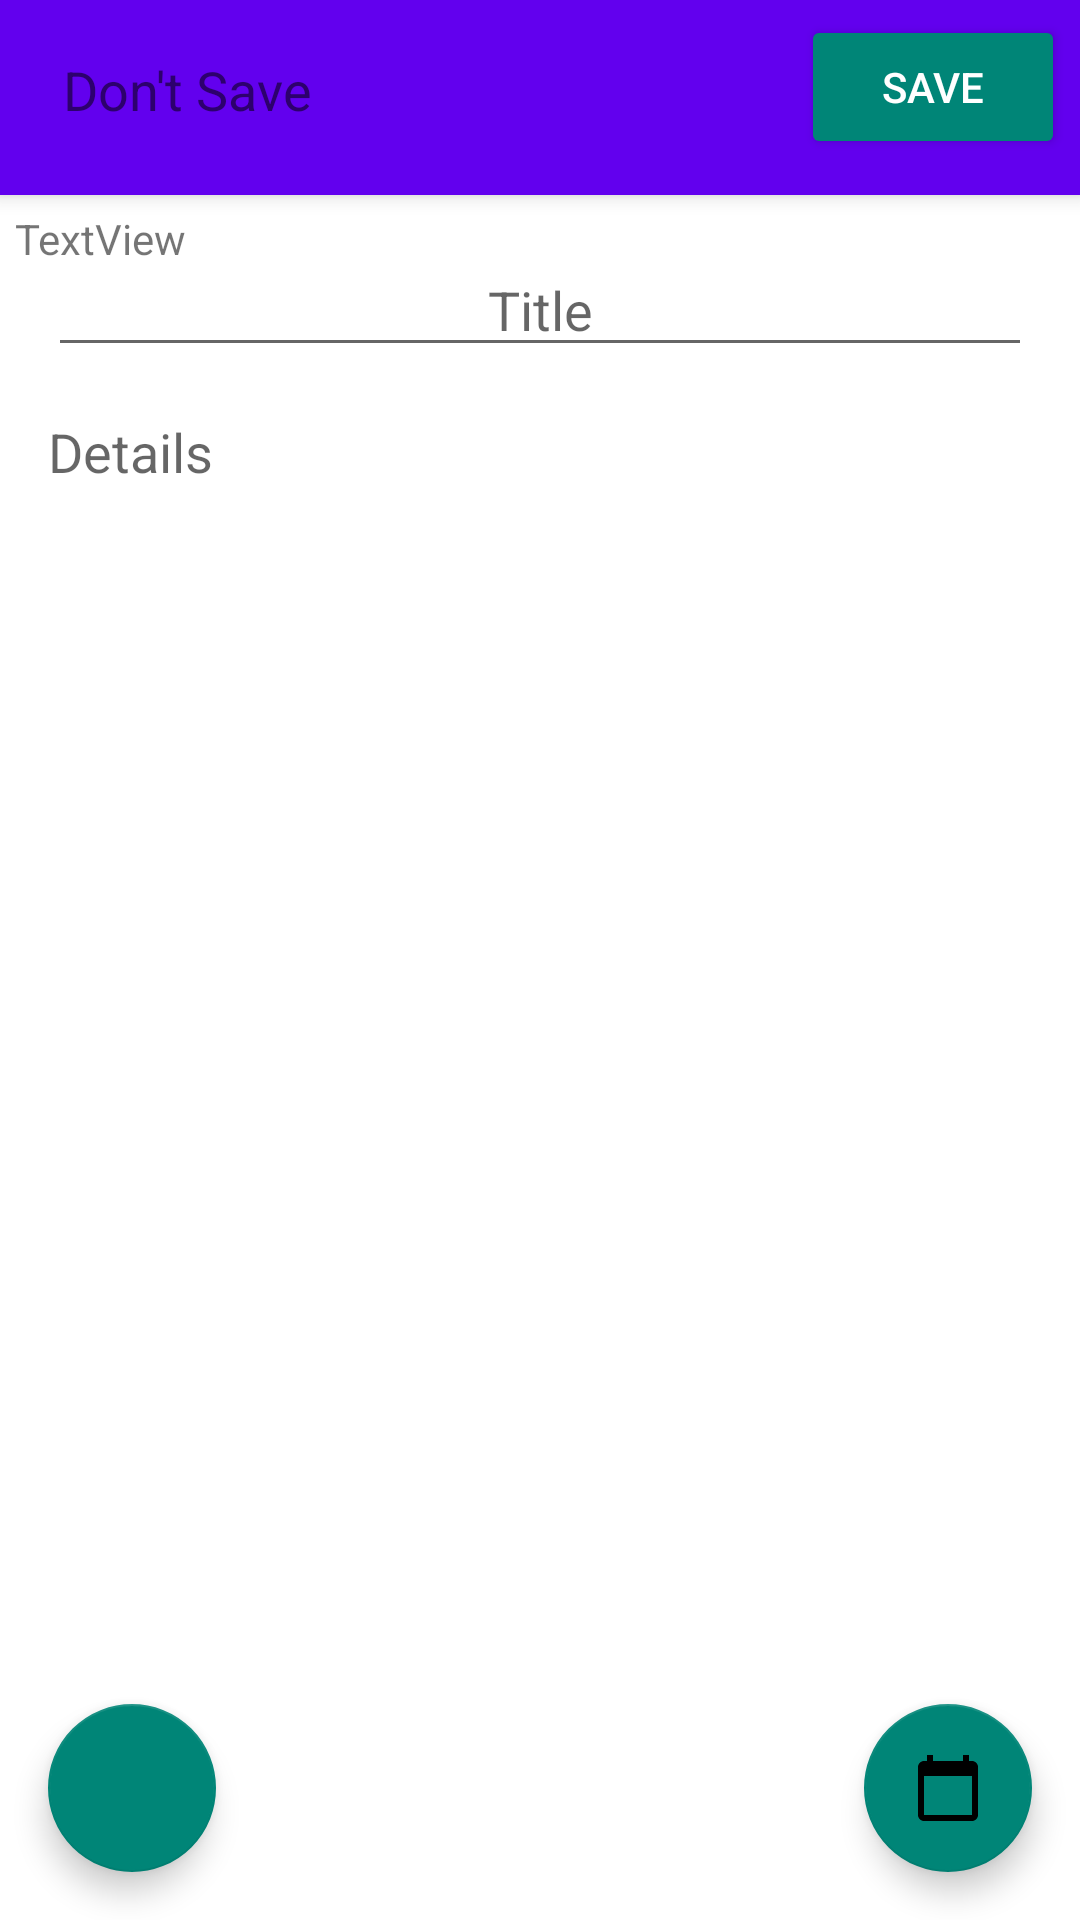

Icon bounding boxes for this 1080 x 1920 phone screenshot, format (x1, y1, x2, y2):
calendar today: (864, 1704, 1032, 1872)
